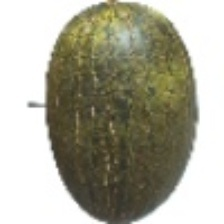honeydew: (33, 16, 189, 189)
